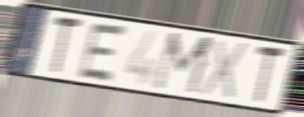4: (122, 28, 160, 90)
E: (74, 20, 130, 85)
M: (150, 30, 218, 98)
T: (251, 43, 288, 107), (48, 14, 85, 77)
X: (198, 37, 252, 103)
